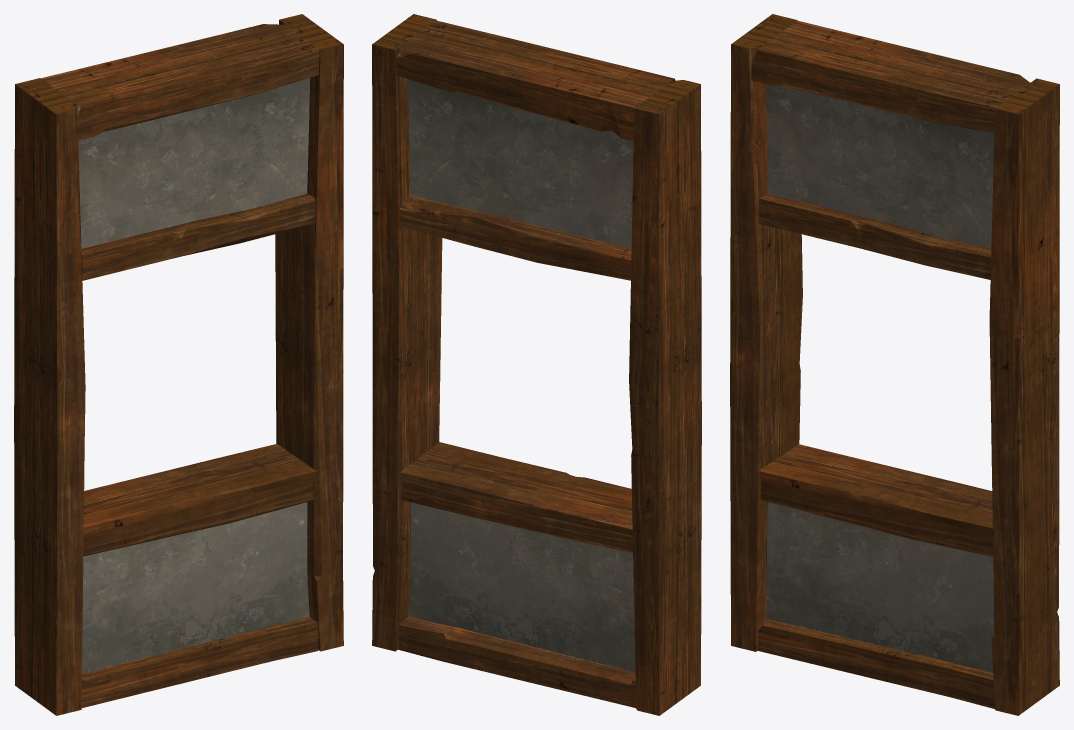
The picture shows the model from 3 angles, left to right: view 1: azimuth 30°, elevation 25°; view 2: azimuth 150°, elevation 25°; view 3: azimuth 330°, elevation 25°; orthographic projection.
Parts seen in each view (by area): view 1: SM_BB_T2_Wall_Windowframe_Narrow_LOD0; view 2: SM_BB_T2_Wall_Windowframe_Narrow_LOD0; view 3: SM_BB_T2_Wall_Windowframe_Narrow_LOD0.
Boxes of the visible parts, left/top/right/bottom form: SM_BB_T2_Wall_Windowframe_Narrow_LOD0: left=14, top=14, right=343, bottom=715; SM_BB_T2_Wall_Windowframe_Narrow_LOD0: left=372, top=14, right=701, bottom=715; SM_BB_T2_Wall_Windowframe_Narrow_LOD0: left=730, top=14, right=1059, bottom=715.
Size of the model in its own units: 1.5 by 3 by 0.3913.
Materials: 2 (2 with a texture image).
